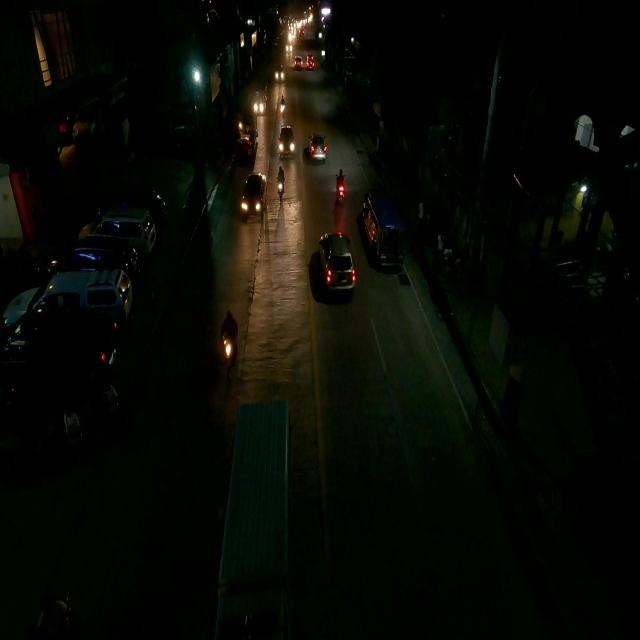Motorcycle: (217, 306, 240, 388), (334, 168, 347, 209), (277, 162, 286, 207)
